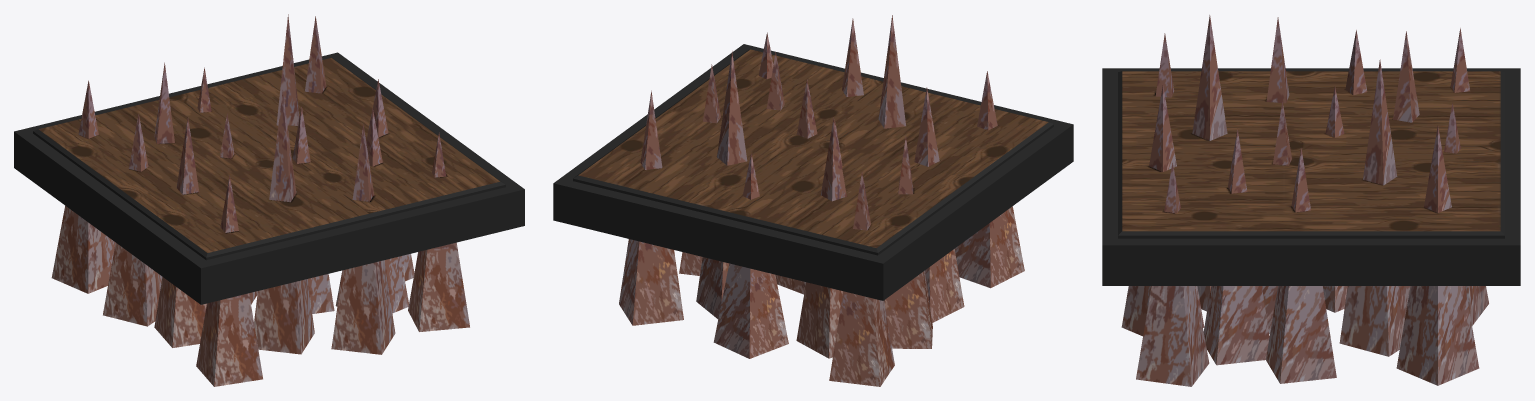
The model's file is spikeTrapMain.fbx.
The picture shows the model from 3 angles, left to right: view 1: azimuth 30°, elevation 25°; view 2: azimuth 150°, elevation 25°; view 3: azimuth 270°, elevation 25°; orthographic projection. The views are drawn at different scales.
Parts seen in each view (by area): view 1: pCube1, pPyramid10, pPyramid9, pPyramid8, pPyramid11, pPyramid2, pPyramid13, pPyramid7, pPyramid5, pPyramid15, pPyramid6, pPyramid14 (+3 smaller); view 2: pCube1, pPyramid3, pPyramid1, pPyramid2, pPyramid8, pPyramid14, pPyramid13, pPyramid6, pPyramid7, pPyramid9, pPyramid12, pPyramid15 (+2 smaller); view 3: pCube1, pPyramid1, pPyramid6, pPyramid12, pPyramid11, pPyramid5, pPyramid9, pPyramid10, pPyramid14, pPyramid15, pPyramid3, pPyramid7 (+4 smaller).
Boxes of the visible parts, x1,y1,x2,y2 form: pCube1: (14, 52, 524, 304); pPyramid10: (331, 124, 395, 354); pPyramid9: (254, 90, 314, 354); pPyramid8: (196, 175, 262, 386); pPyramid11: (408, 132, 469, 331); pPyramid2: (51, 80, 115, 293); pPyramid13: (103, 114, 162, 326); pPyramid7: (154, 117, 206, 347); pPyramid5: (335, 108, 408, 313); pPyramid15: (292, 106, 334, 313); pPyramid6: (276, 14, 299, 125); pPyramid14: (154, 62, 174, 143); pCube1: (553, 44, 1073, 300); pPyramid3: (713, 153, 788, 358); pPyramid1: (619, 90, 683, 325); pPyramid2: (829, 171, 894, 386); pPyramid8: (954, 71, 1024, 288); pPyramid14: (796, 117, 846, 358); pPyramid13: (884, 135, 932, 348); pPyramid6: (696, 51, 747, 319); pPyramid7: (914, 87, 964, 322); pPyramid9: (878, 15, 905, 128); pPyramid12: (679, 64, 720, 275); pPyramid15: (775, 79, 817, 294); pCube1: (1102, 68, 1520, 285); pPyramid1: (1396, 125, 1479, 385); pPyramid6: (1339, 59, 1410, 356); pPyramid12: (1266, 147, 1336, 383); pPyramid11: (1136, 163, 1209, 386); pPyramid5: (1203, 129, 1269, 365); pPyramid9: (1192, 15, 1227, 311); pPyramid10: (1121, 84, 1204, 336); pPyramid14: (1393, 31, 1419, 122); pPyramid15: (1262, 100, 1291, 333); pPyramid3: (1444, 102, 1488, 325); pPyramid7: (1266, 17, 1289, 103).
Bounding box in the file's own units: 2 × 1.48 × 2.
